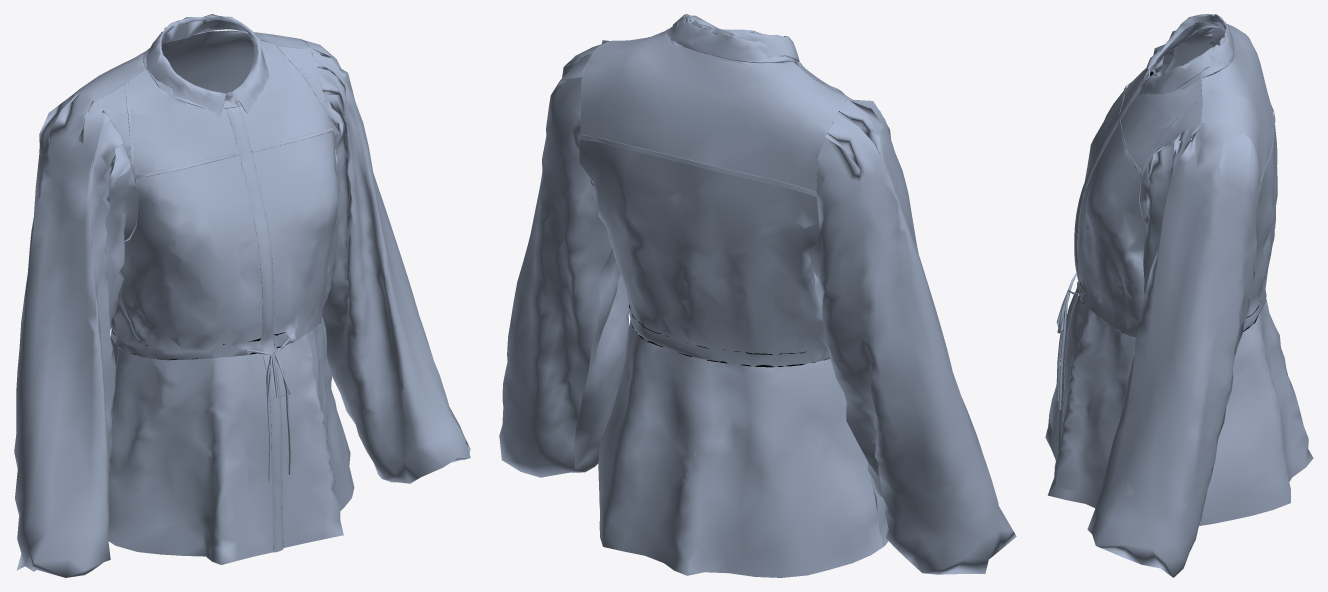
The model's file is miekpipingjacketlowpoly.fbx.
The picture shows the model from 3 angles, left to right: view 1: azimuth 30°, elevation 25°; view 2: azimuth 150°, elevation 25°; view 3: azimuth 270°, elevation 25°; orthographic projection. The views are drawn at different scales.
Visible parts, largest first — view 1: noname_9; view 2: noname_9; view 3: noname_9.
Part boxes in pixels (x1=…): noname_9: x1=14, y1=14, x2=470, y2=577; noname_9: x1=499, y1=14, x2=1016, y2=577; noname_9: x1=1045, y1=14, x2=1313, y2=577.
Size of the model in its own units: 66.7 by 68.49 by 36.51.
64 materials, 64 textured.
